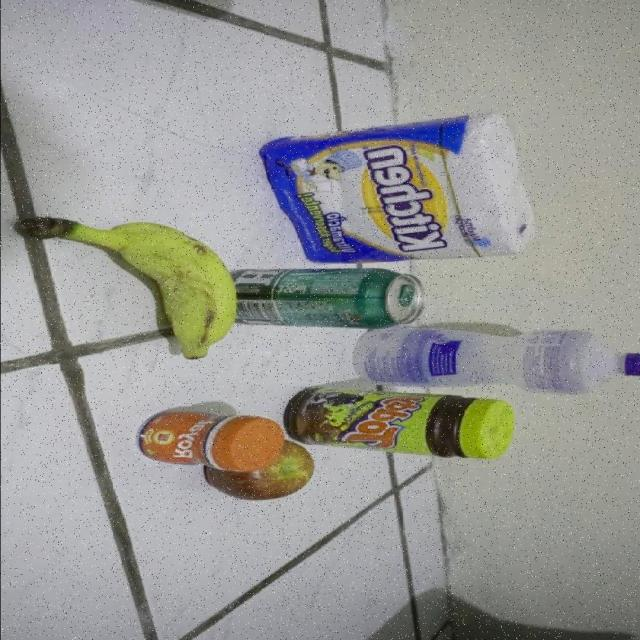AlcoholBottle: (351, 327, 640, 395)
Apple: (205, 439, 314, 500)
Banana: (17, 211, 235, 361)
BeerCan: (231, 267, 426, 327)
ChocolatePowder: (283, 388, 513, 459)
Napkin: (257, 114, 537, 266)
Yeast: (136, 408, 286, 472)
